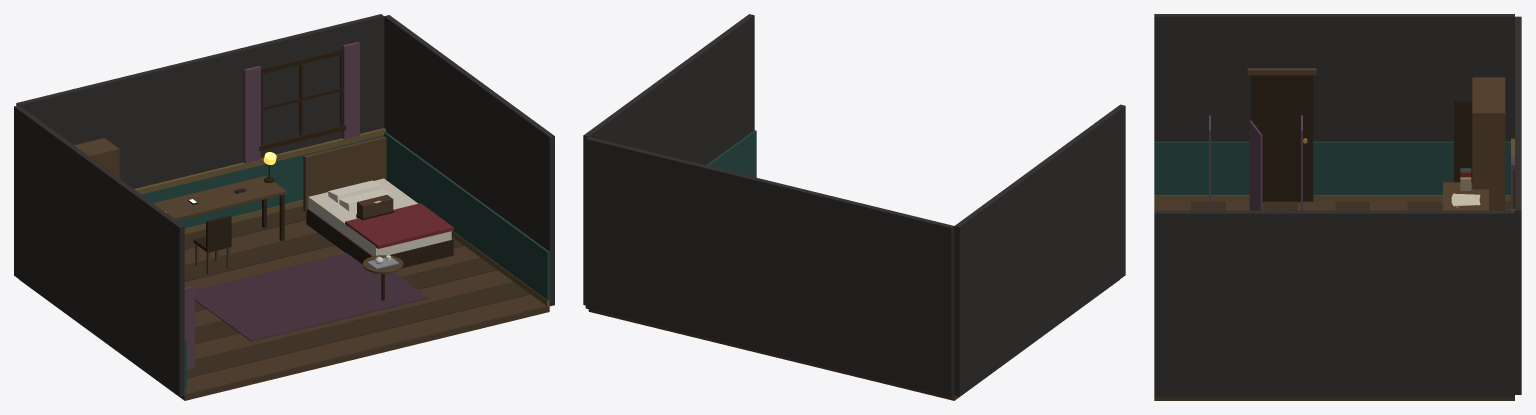
Rendered from suite.glb.
3 renders of one model, left to right at view 1: azimuth 30°, elevation 25°; view 2: azimuth 150°, elevation 25°; view 3: azimuth 270°, elevation 25°, orthographic. The views are drawn at different scales.
Parts seen in each view (by area): view 1: WallBack, WallLeft, WallRight, SuRug, BandRight, Plank0, Plank1, BandBack, Headboard, Plank2, BedThrow, SuiteDeskTop (+22 smaller); view 2: WallBack, WallLeft, WallRight, Floor, BandRight; view 3: WallRight, WallLeft, BandLeft, Door, Wardrobe, WallBack, SkirtLeft, Floor, WardrobeDoorLine, Screen1, SuiteDeskTop, DoorFrame (+7 smaller).
Boxes of the visible parts, x1,y1,x2,y2 form: WallBack: [16, 14, 384, 188]; WallLeft: [14, 105, 184, 396]; WallRight: [384, 15, 554, 306]; SuRug: [195, 253, 428, 341]; BandRight: [383, 132, 549, 300]; Plank0: [187, 294, 546, 394]; Plank1: [187, 282, 530, 378]; BandBack: [141, 135, 382, 228]; Headboard: [303, 136, 386, 211]; Plank2: [195, 270, 513, 359]; BedThrow: [345, 203, 453, 248]; SuiteDeskTop: [153, 176, 286, 220]; WallBack: [585, 137, 954, 397]; WallLeft: [954, 104, 1125, 396]; WallRight: [583, 14, 754, 305]; Floor: [588, 279, 1119, 400]; BandRight: [706, 130, 756, 177]; WallRight: [1154, 210, 1514, 397]; WallLeft: [1154, 14, 1514, 141]; BandLeft: [1154, 141, 1510, 194]; Door: [1251, 75, 1313, 202]; Wardrobe: [1472, 77, 1505, 210]; WallBack: [1515, 16, 1521, 394]; SkirtLeft: [1154, 195, 1510, 202]; Floor: [1154, 202, 1514, 400]; WardrobeDoorLine: [1454, 101, 1472, 182]; Screen1: [1249, 120, 1262, 210]; SuiteDeskTop: [1443, 182, 1488, 210]; DoorFrame: [1247, 68, 1316, 75].
Bounding box in the file's own units: 7.2 × 3.2 × 5.6.
